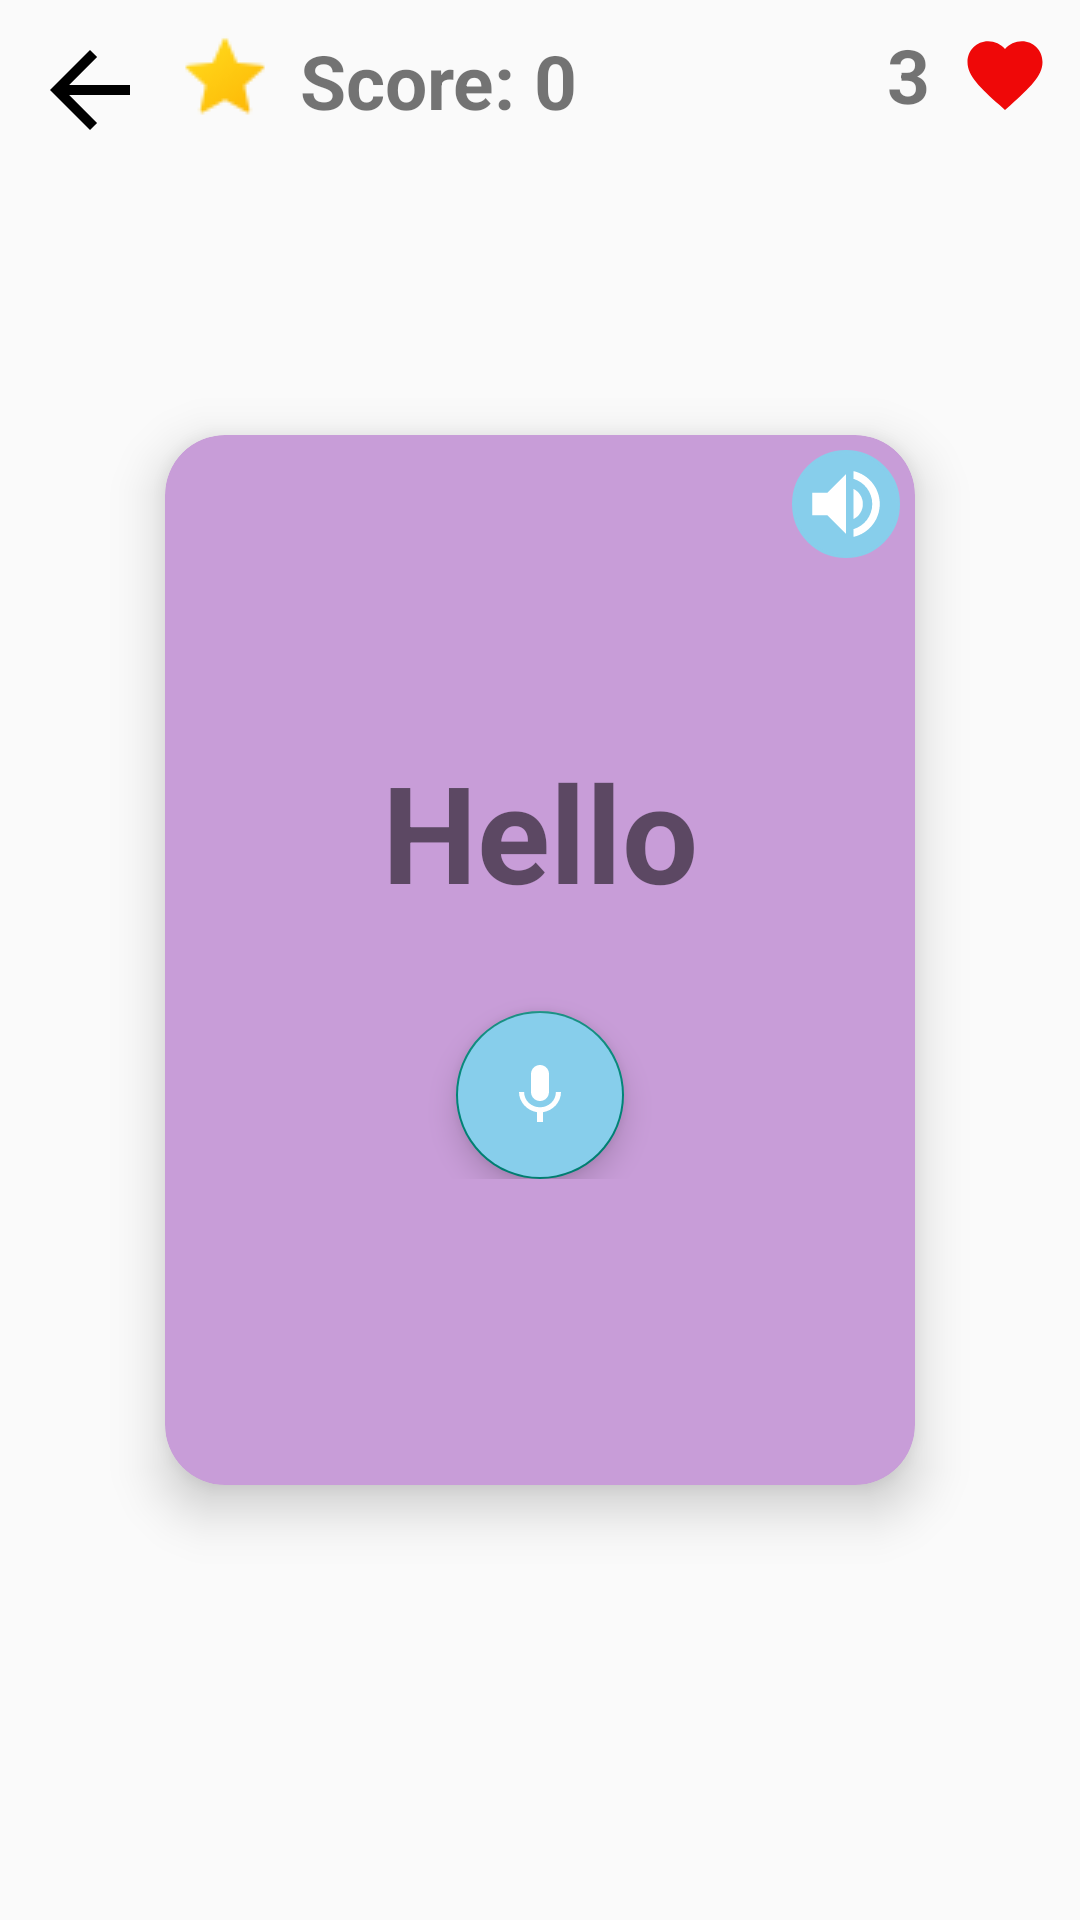

Icon click points for this 1080x1920 phone screenshot, format [x,y]:
arrow back: [90,90]
favorite: [1005,75]
mic: [540,1095]
star: [225,76]
volume up: [846,504]
